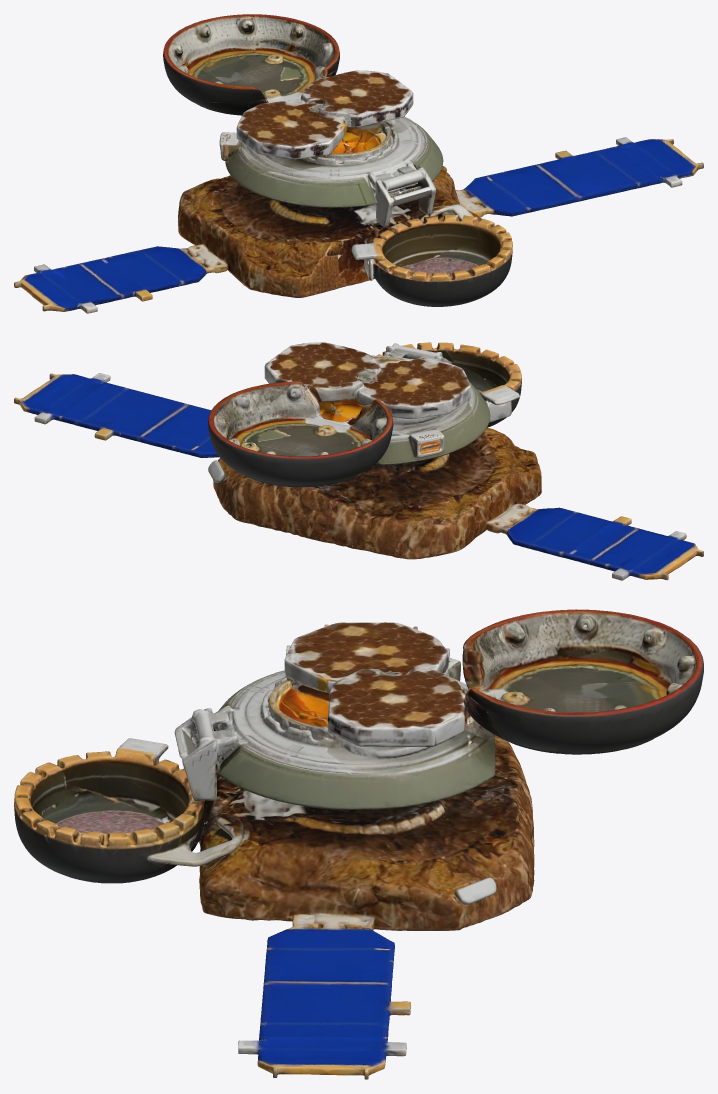
The model's file is genesis.glb.
The picture shows the model from 3 angles, top to bottom: view 1: azimuth 30°, elevation 25°; view 2: azimuth 150°, elevation 25°; view 3: azimuth 270°, elevation 25°; orthographic projection. The views are drawn at different scales.
Size of the model in its own units: 1.9 by 0.3608 by 1.24.
Materials: 1 (1 with a texture image).
